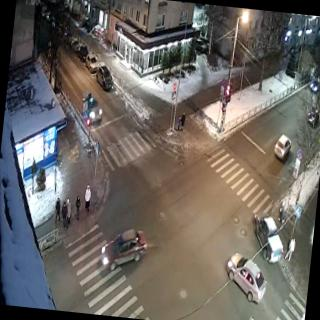small-vehicle: (223, 247, 268, 307), (249, 204, 286, 276), (101, 225, 150, 272), (78, 90, 104, 124), (274, 126, 295, 160), (95, 64, 115, 92), (306, 98, 320, 126), (83, 49, 99, 73), (309, 71, 320, 93), (77, 42, 88, 61)
